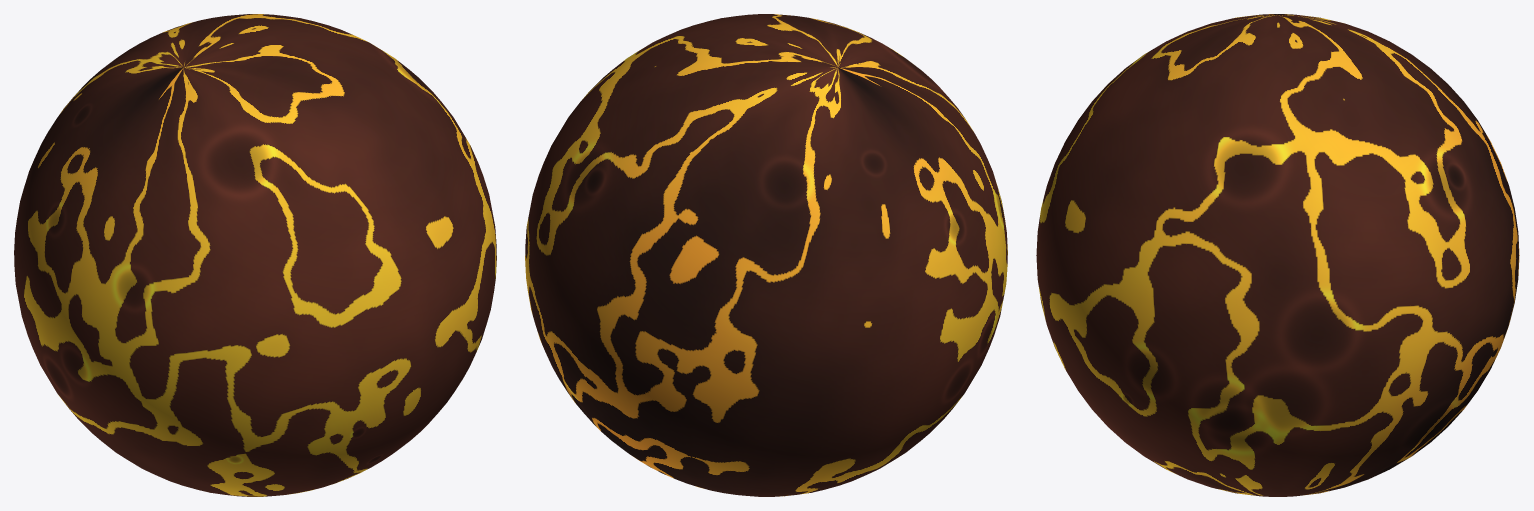
Rendered from vulcan.glb.
3 views of the same model, side by side, from view 1: azimuth 30°, elevation 25°; view 2: azimuth 150°, elevation 25°; view 3: azimuth 270°, elevation 25° (orthographic).
Parts seen in each view (by area): view 1: Surface; view 2: Surface; view 3: Surface.
Boxes of the visible parts, x1,y1,x2,y2 form: Surface: (14,14,496,496); Surface: (525,14,1007,496); Surface: (1036,14,1519,496).
Size of the model in its own units: 2 by 2 by 2.
Materials: 1 (1 with a texture image).
